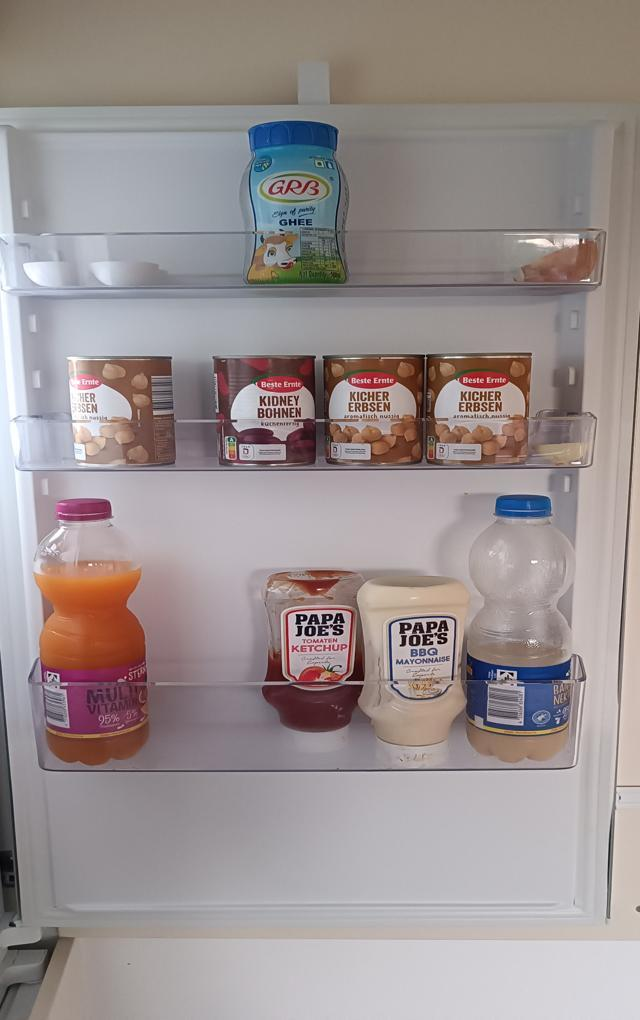bananajuice: (465, 492, 575, 768)
chickpeas: (422, 352, 531, 470), (69, 355, 178, 468), (323, 354, 423, 466)
ghee: (240, 120, 351, 286)
kidneybeans: (214, 354, 316, 469)
mayoniasie: (357, 572, 466, 769)
orangejuice: (34, 498, 149, 766)
tomatoketchup: (259, 570, 366, 749)
